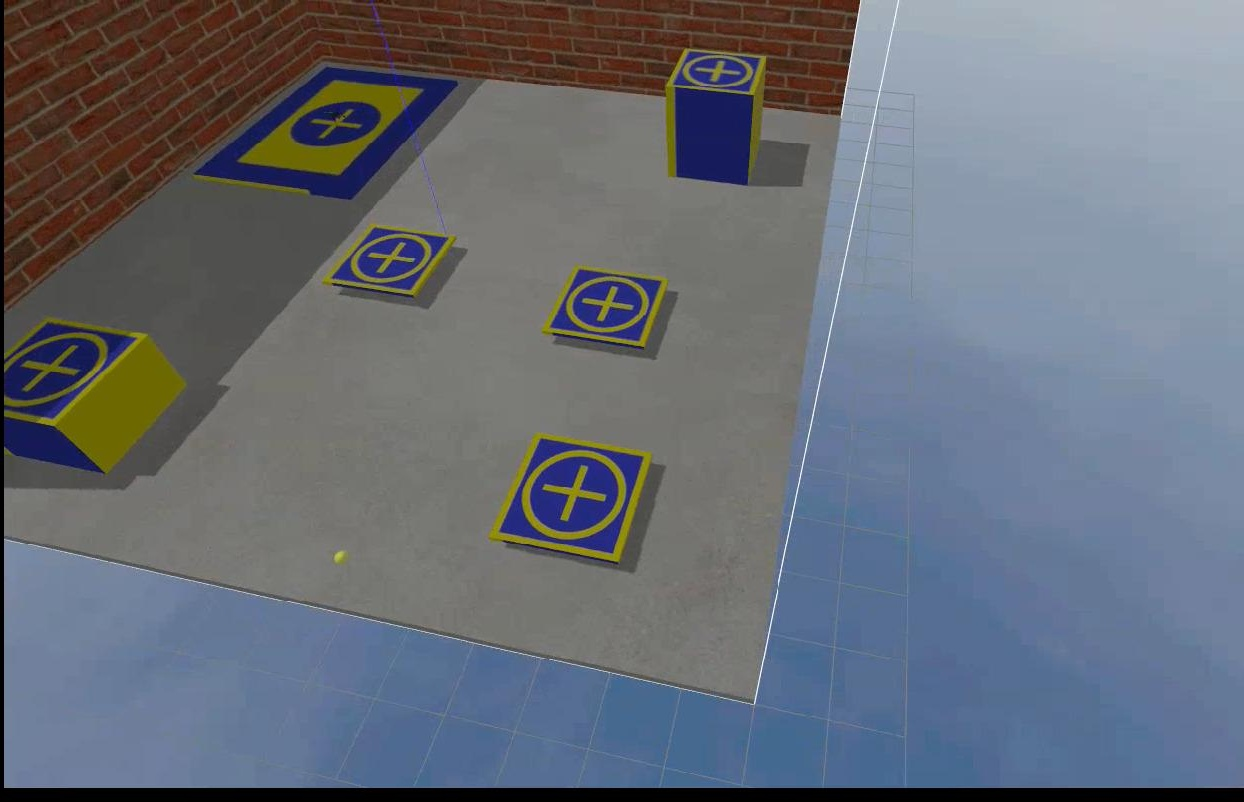large_base: (194, 64, 452, 205)
small_base: (492, 432, 651, 564), (3, 317, 145, 429), (539, 268, 669, 353), (324, 225, 452, 302), (665, 47, 763, 102)
